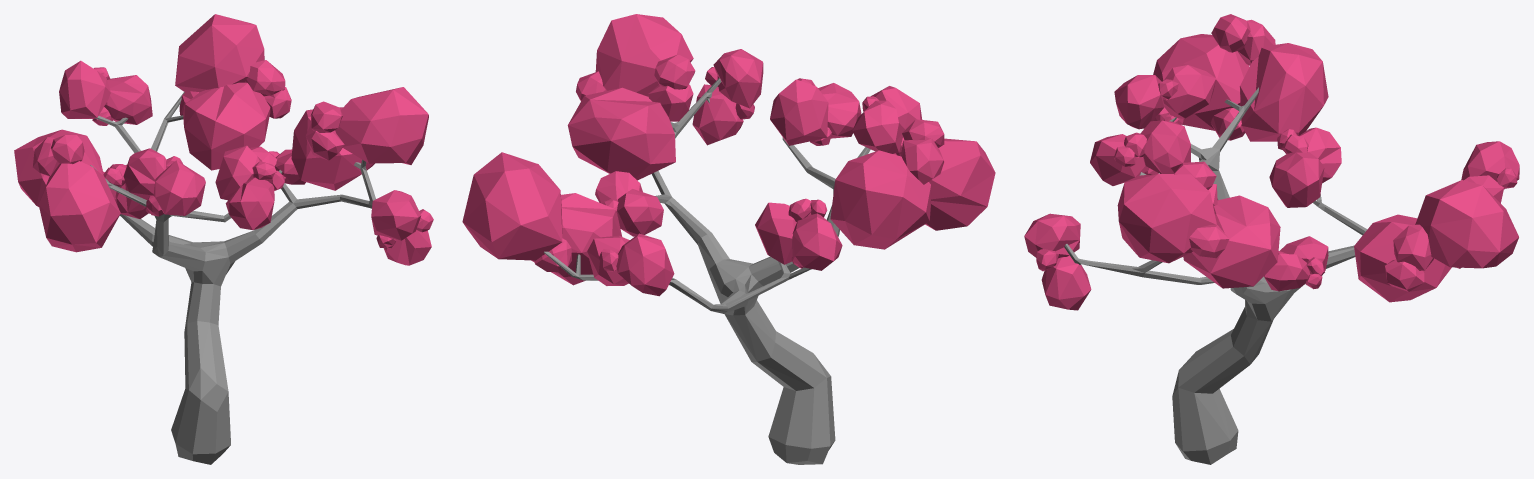
The model's file is special_tree.glb.
3 views of the same model, side by side, from view 1: azimuth 30°, elevation 25°; view 2: azimuth 150°, elevation 25°; view 3: azimuth 270°, elevation 25° (orthographic). The views are drawn at different scales.
Parts seen in each view (by area): view 1: Cube, Icosphere.018, Icosphere.017, Icosphere, Icosphere.001, Icosphere.016, Icosphere.008, Icosphere.039, Icosphere.019, Icosphere.012, Icosphere.027, Icosphere.009 (+11 smaller); view 2: Cube, Icosphere.001, Icosphere.016, Icosphere.019, Icosphere.017, Icosphere.018, Icosphere, Icosphere.026, Icosphere.008, Icosphere.037, Icosphere.012, Icosphere.038 (+13 smaller); view 3: Cube, Icosphere.019, Icosphere.017, Icosphere.001, Icosphere.016, Icosphere.018, Icosphere, Icosphere.036, Icosphere.026, Icosphere.039, Icosphere.038, Icosphere.013 (+13 smaller).
Part boxes in pixels (x1,y1,x2,y2): Cube: [90, 92, 375, 464]; Icosphere.018: [38, 161, 120, 252]; Icosphere.017: [335, 87, 428, 164]; Icosphere: [183, 82, 270, 170]; Icosphere.001: [175, 14, 264, 92]; Icosphere.016: [291, 107, 374, 190]; Icosphere.008: [59, 60, 110, 118]; Icosphere.039: [153, 160, 205, 215]; Icosphere.019: [14, 129, 103, 206]; Icosphere.012: [371, 190, 421, 240]; Icosphere.027: [225, 177, 274, 230]; Icosphere.009: [104, 75, 152, 124]; Cube: [544, 78, 870, 464]; Icosphere.001: [462, 152, 562, 260]; Icosphere.016: [567, 87, 675, 180]; Icosphere.019: [830, 150, 931, 249]; Icosphere.017: [595, 14, 693, 96]; Icosphere.018: [899, 138, 995, 230]; Icosphere: [531, 193, 622, 285]; Icosphere.026: [770, 79, 828, 145]; Icosphere.008: [616, 233, 674, 296]; Icosphere.037: [792, 213, 842, 270]; Icosphere.012: [713, 49, 763, 108]; Icosphere.038: [852, 100, 904, 153]; Cube: [1064, 87, 1367, 464]; Icosphere.019: [1239, 43, 1328, 141]; Icosphere.017: [1117, 174, 1216, 263]; Icosphere.001: [1415, 180, 1518, 268]; Icosphere.016: [1183, 195, 1280, 288]; Icosphere.018: [1153, 34, 1249, 130]; Icosphere: [1354, 214, 1451, 302]; Icosphere.036: [1269, 152, 1324, 207]; Icosphere.026: [1140, 120, 1190, 173]; Icosphere.039: [1114, 75, 1164, 129]; Icosphere.038: [1163, 63, 1216, 118]; Icosphere.013: [1041, 255, 1091, 310].
Size of the model in its own units: 509 by 458 by 546.
